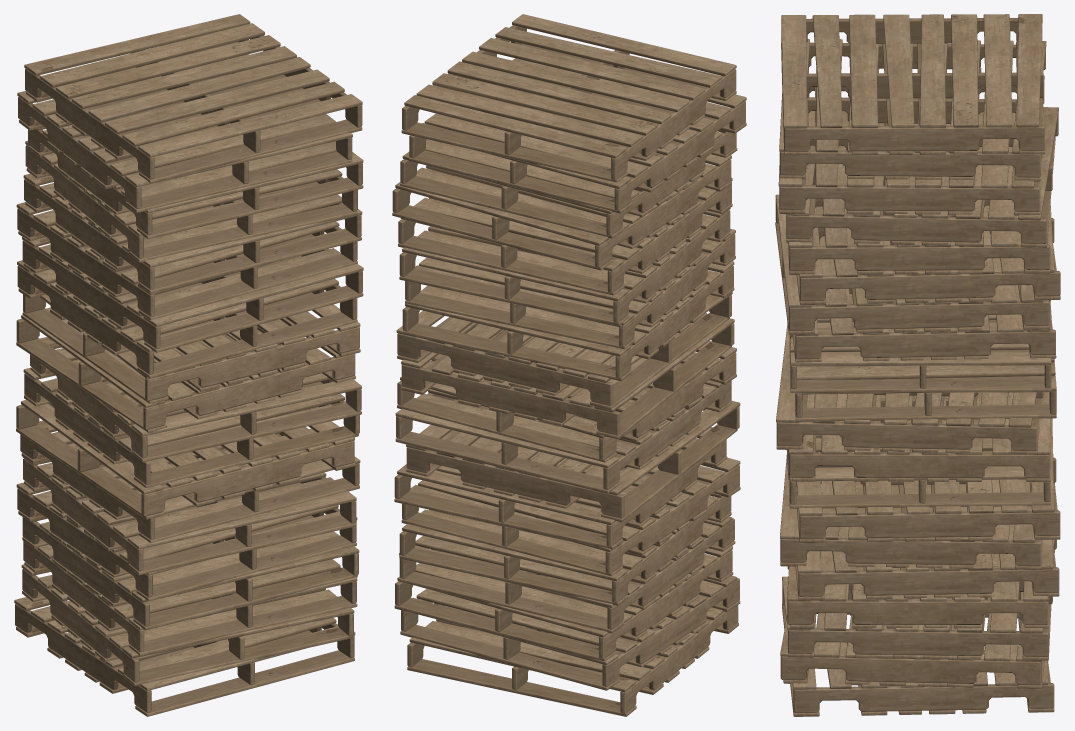
File: wood-pallet-stack.glb
3 views of the same model, side by side, from view 1: azimuth 30°, elevation 25°; view 2: azimuth 150°, elevation 25°; view 3: azimuth 270°, elevation 25° (orthographic). The views are drawn at different scales.
Visible parts, largest first — view 1: pallet_pallet_0_c (×20); view 2: pallet_pallet_0_c (×20); view 3: pallet_pallet_0_c (×20).
Part boxes in pixels (x1=…): pallet_pallet_0_c (×20): x1=14, y1=14, x2=363, y2=716; pallet_pallet_0_c (×20): x1=392, y1=14, x2=746, y2=716; pallet_pallet_0_c (×20): x1=775, y1=14, x2=1060, y2=716.
Bounding box in the file's own units: 0.9575 × 2.21 × 0.9641.
Materials: 1 (1 with a texture image).
